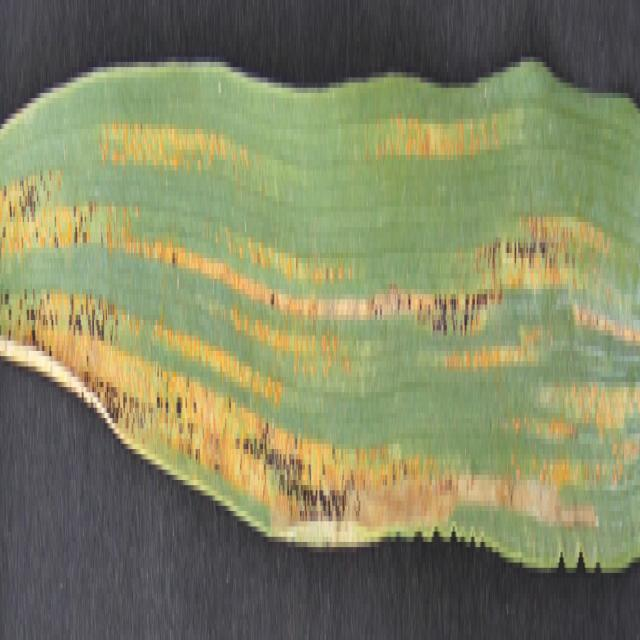leaf rust: (0, 82, 640, 547)
